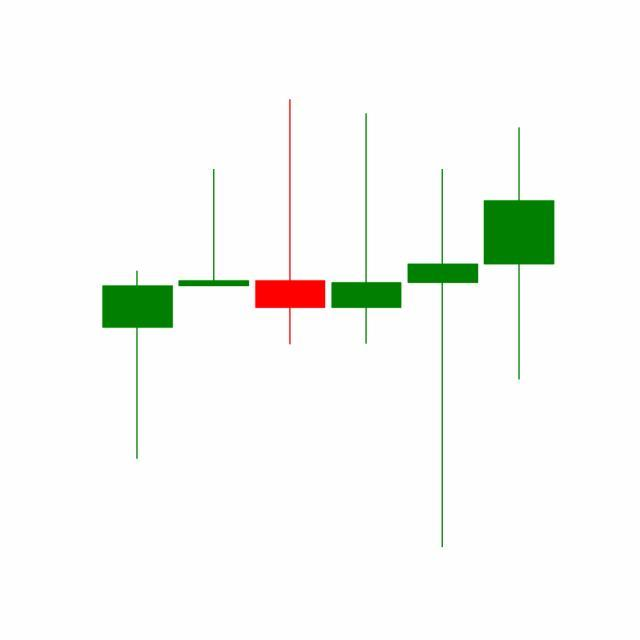Spinning Top: (404, 165, 482, 552)
